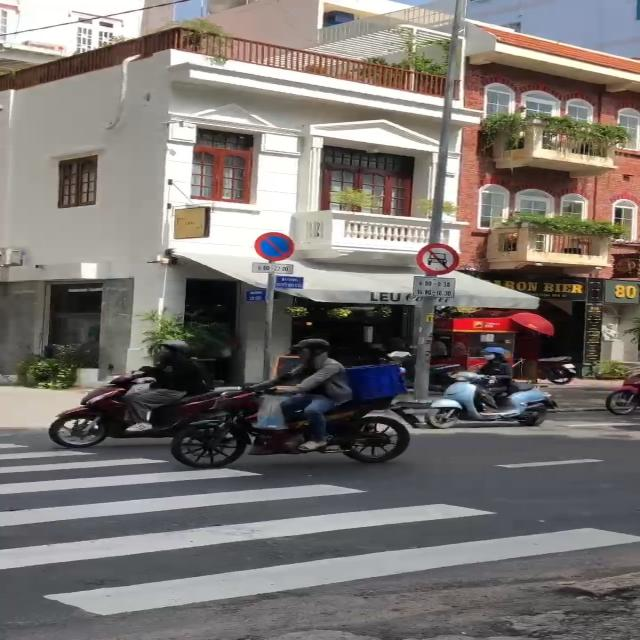Bien bao cam do xe: (253, 230, 302, 263)
Bien bao cam xe oto: (414, 241, 460, 277)
